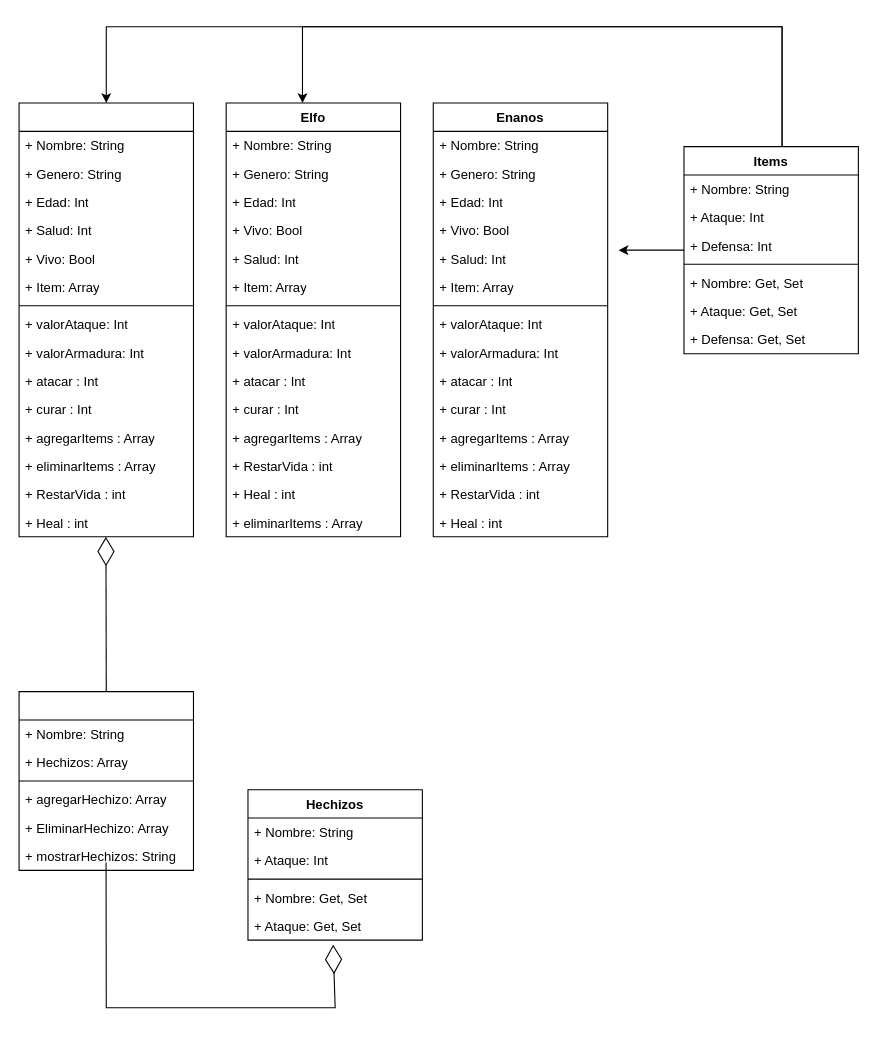
The diagram is 877 pixels wide and 1055 high, and some of its shapes have lost their labels. The box of each missing label's shape, as (x1, y1, x2, y2) in pixels:
Libro: (18, 691, 193, 870)
Mago: (18, 102, 193, 537)
